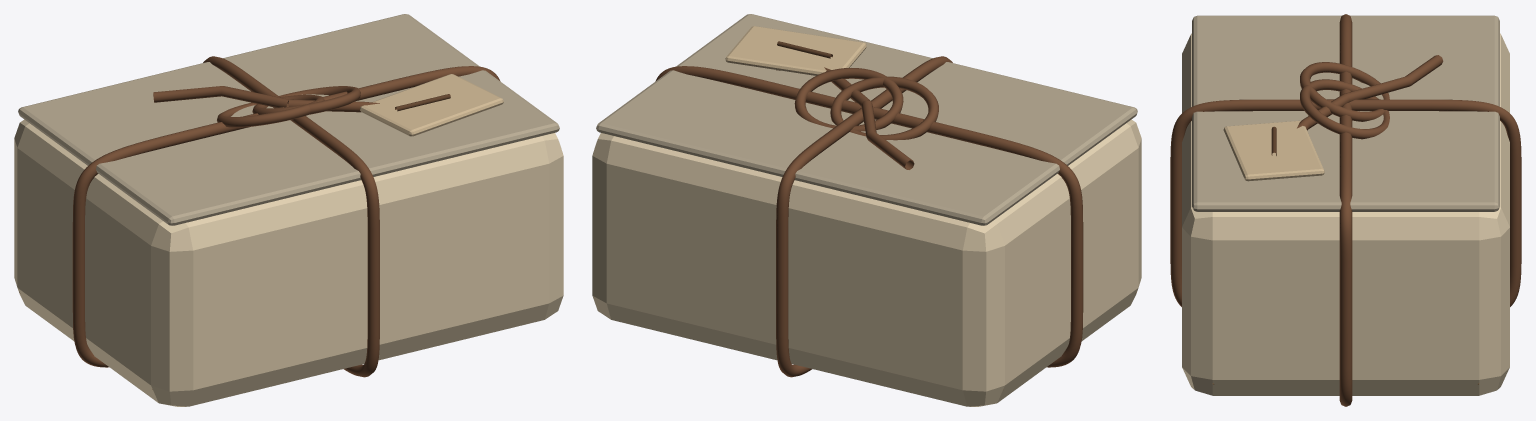
Rendered from SM_CP_Parcel.fbx.
3 views of the same model, side by side, from view 1: azimuth 30°, elevation 25°; view 2: azimuth 150°, elevation 25°; view 3: azimuth 270°, elevation 25° (orthographic).
Visible parts, largest first — view 1: SM_CP_Parcel; view 2: SM_CP_Parcel; view 3: SM_CP_Parcel.
Part boxes in pixels (<box>): SM_CP_Parcel: <box>14,14,563,406</box>; SM_CP_Parcel: <box>592,14,1141,406</box>; SM_CP_Parcel: <box>1170,14,1521,406</box>.
Size of what is drawn, in the model's own units: 48.44 by 34.24 by 25.52.
